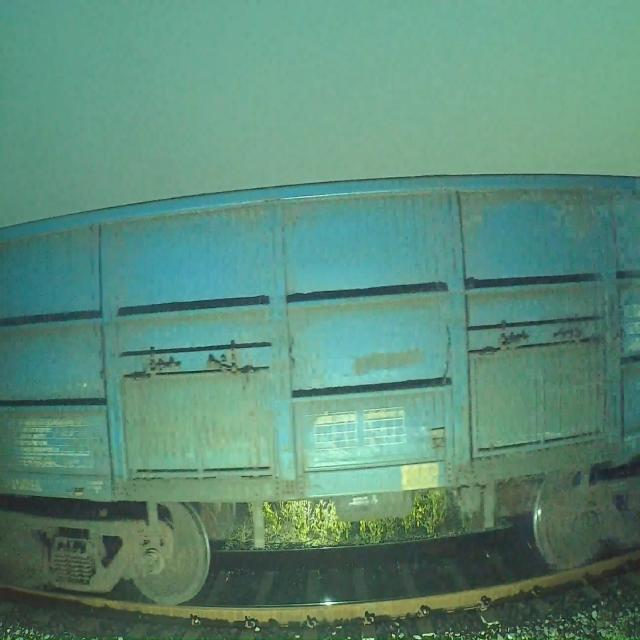WAgon-uic: (0, 170, 640, 608)
